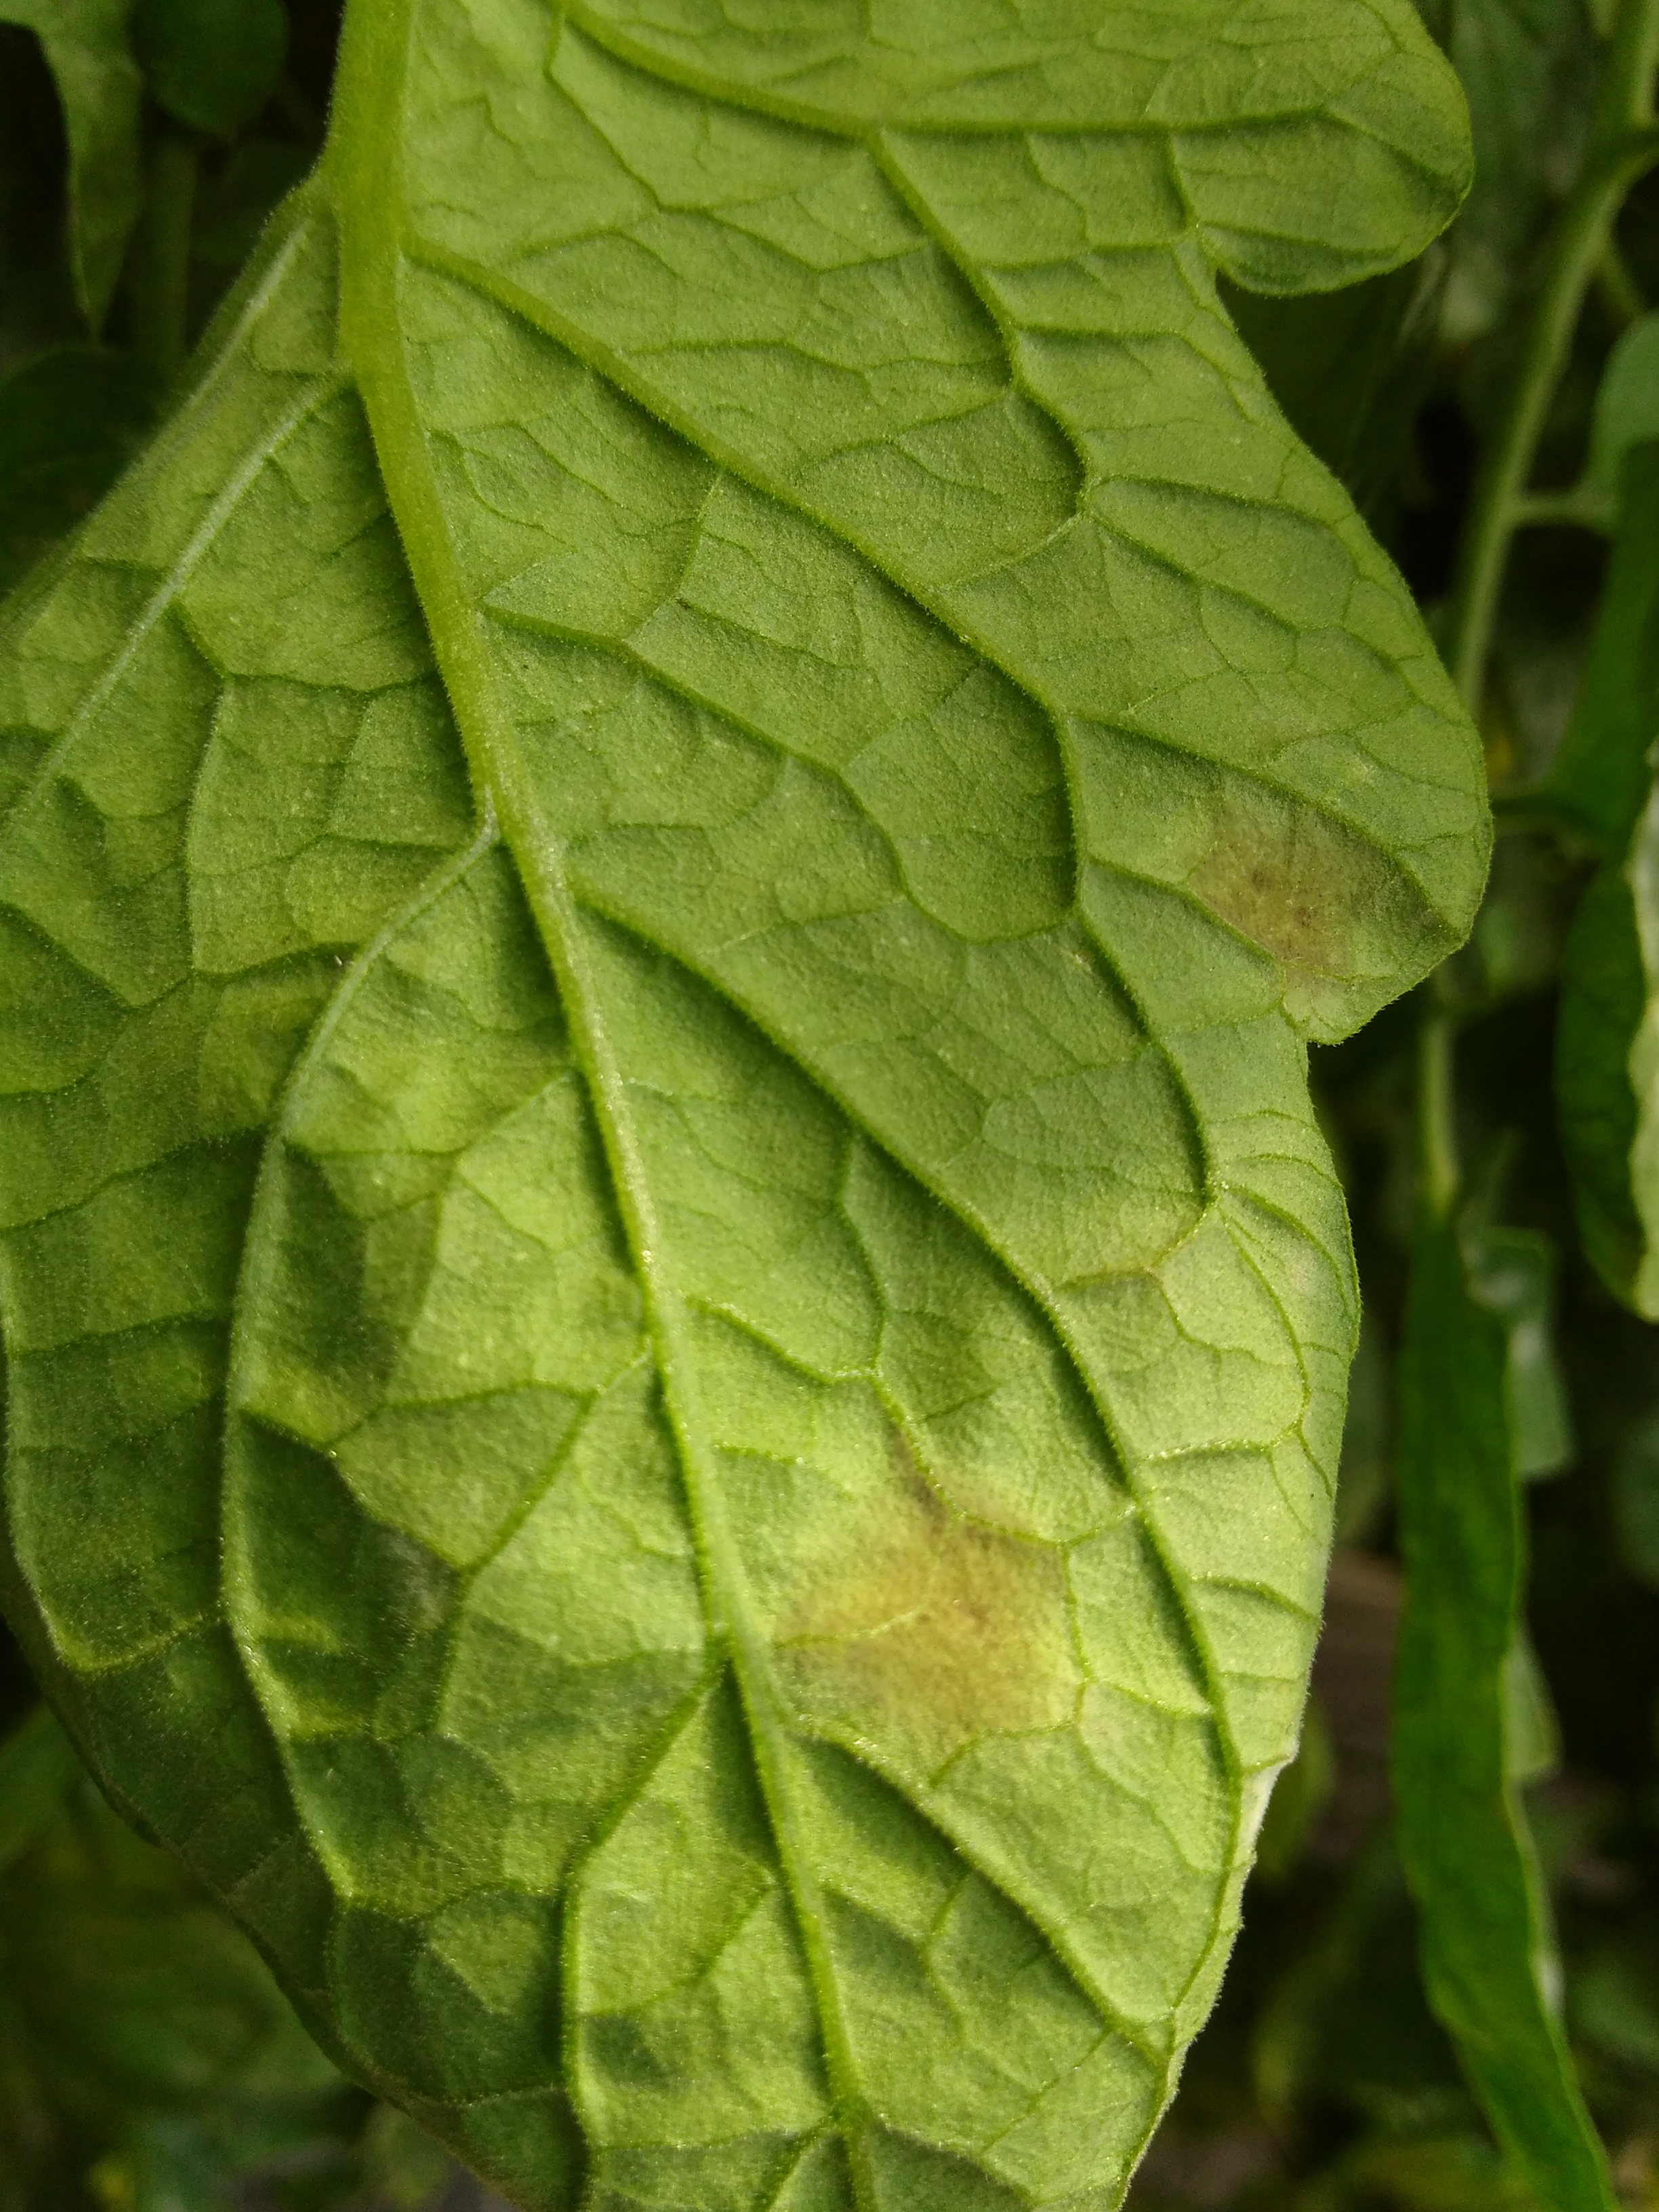negra: (781, 1432, 1100, 1785), (1168, 786, 1403, 996)
